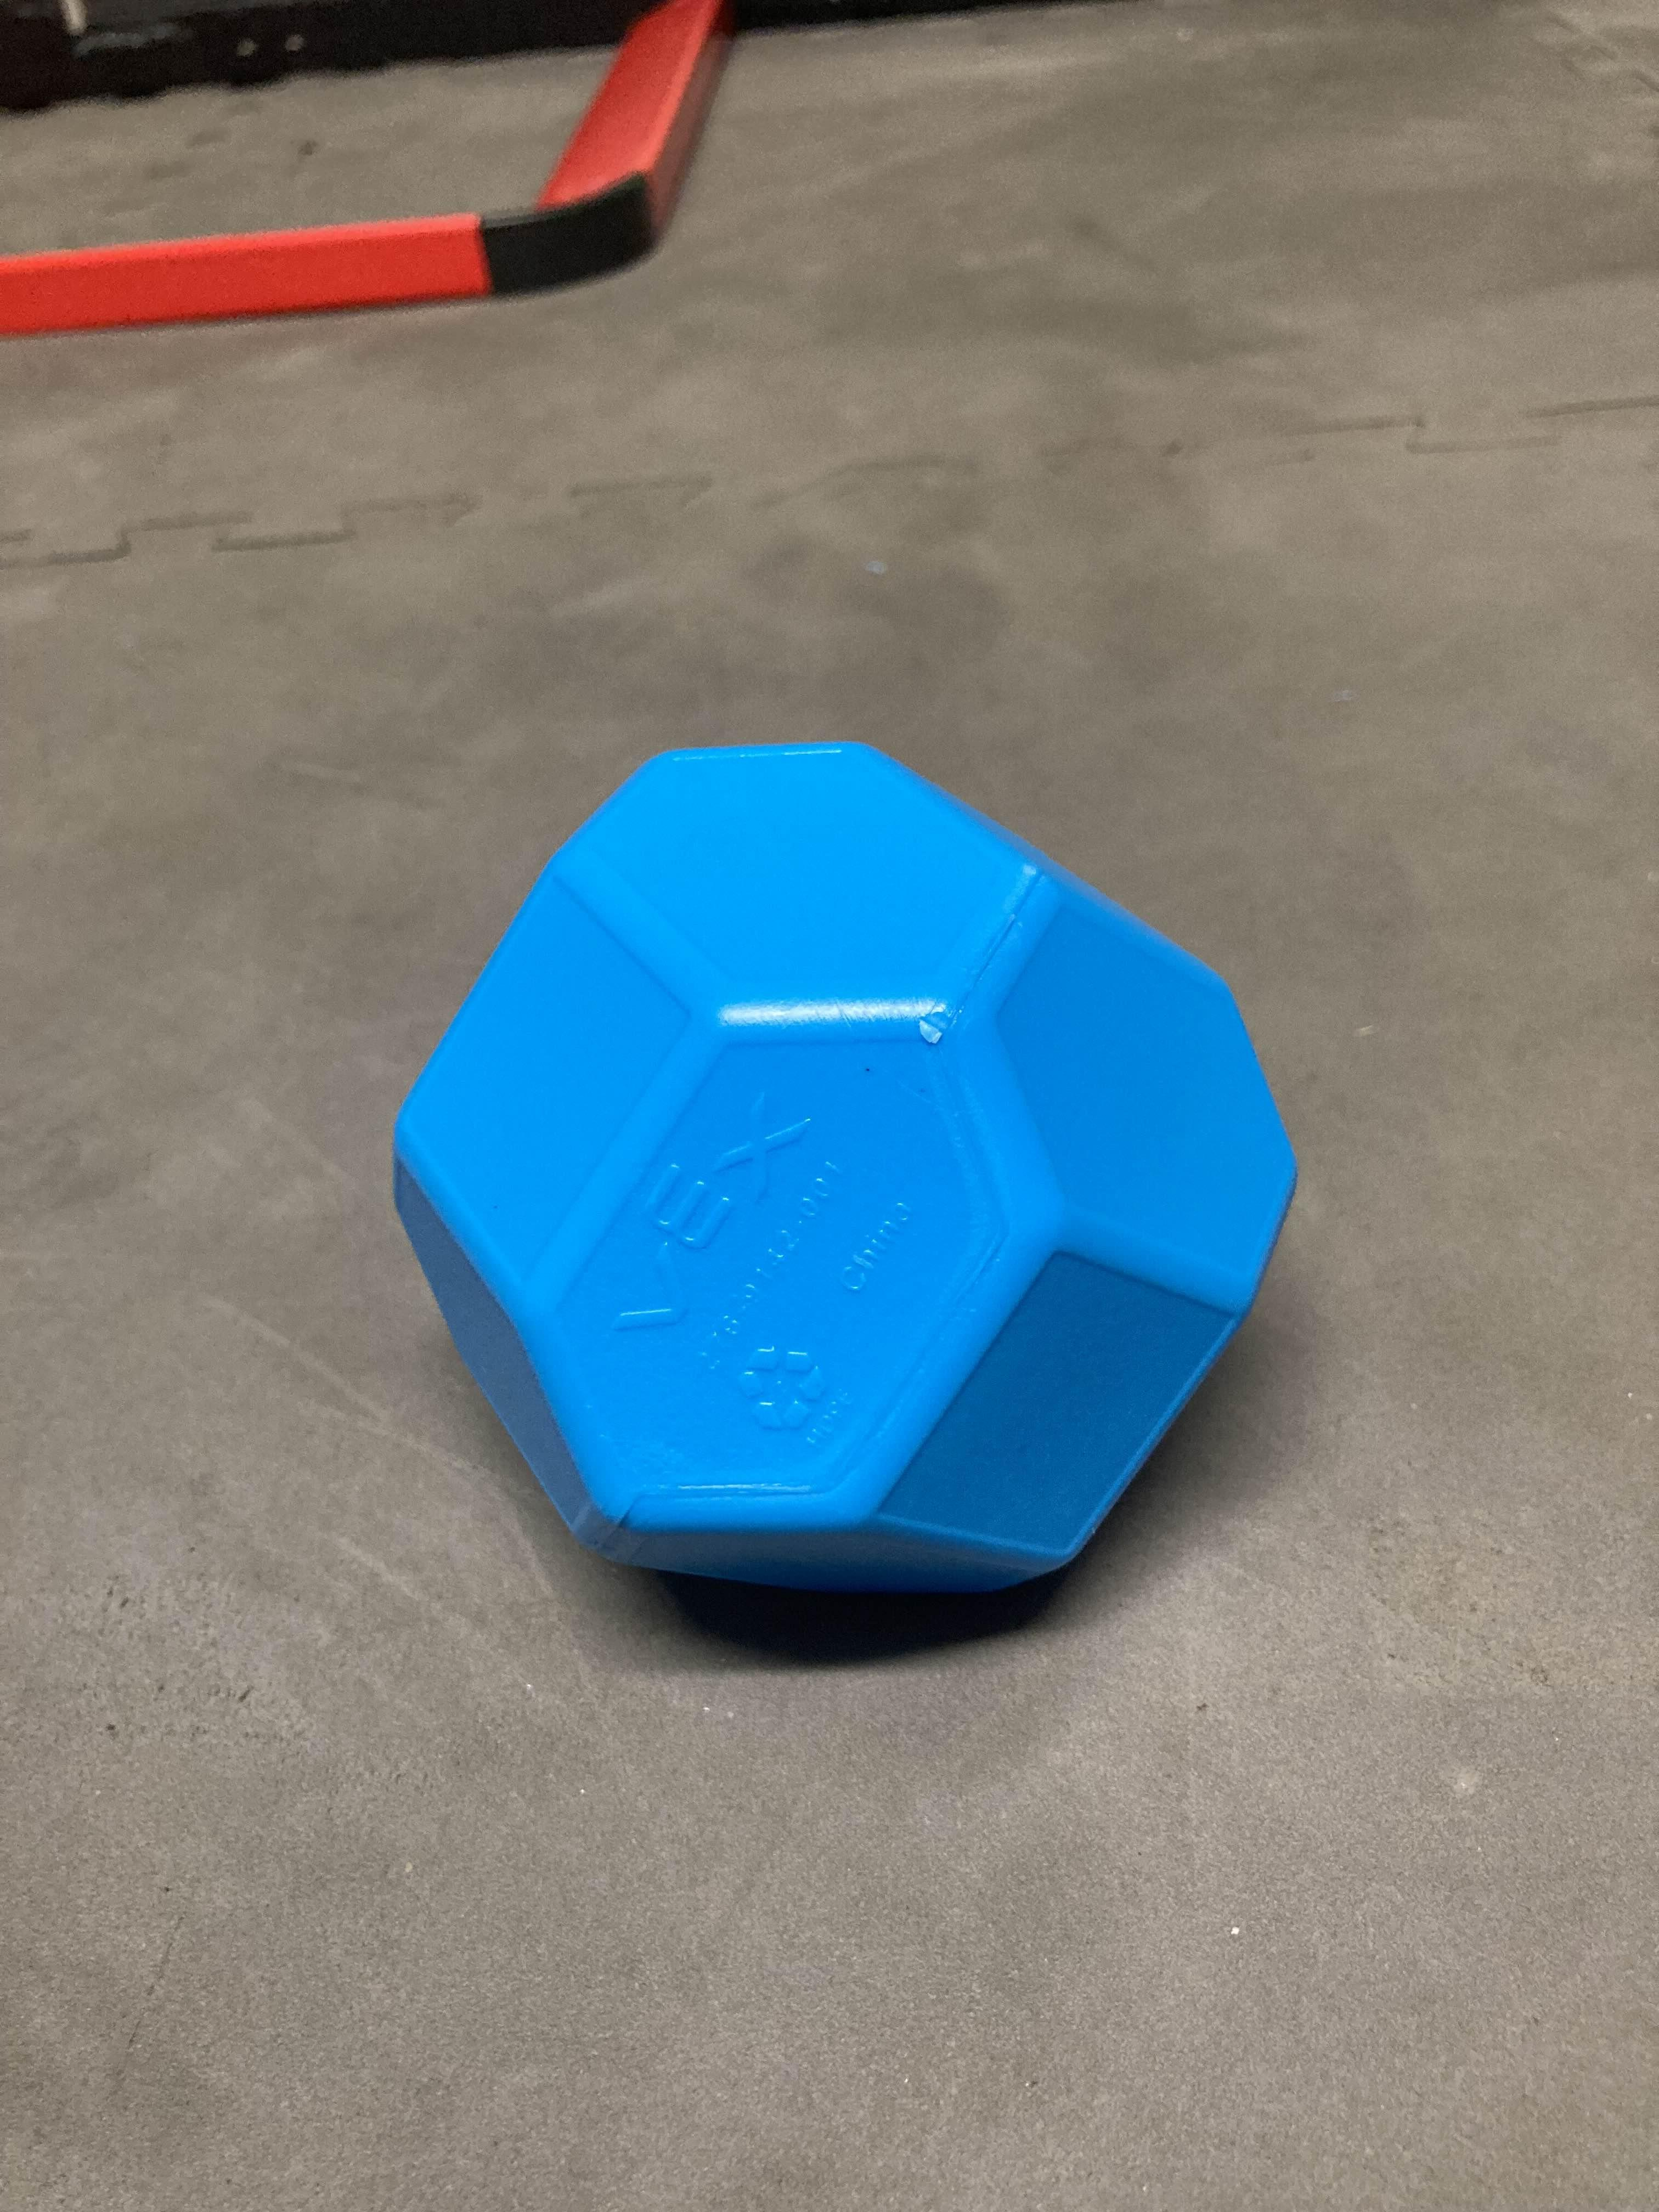Vex-Pieces-BLUE: (389, 740, 1300, 1616)
